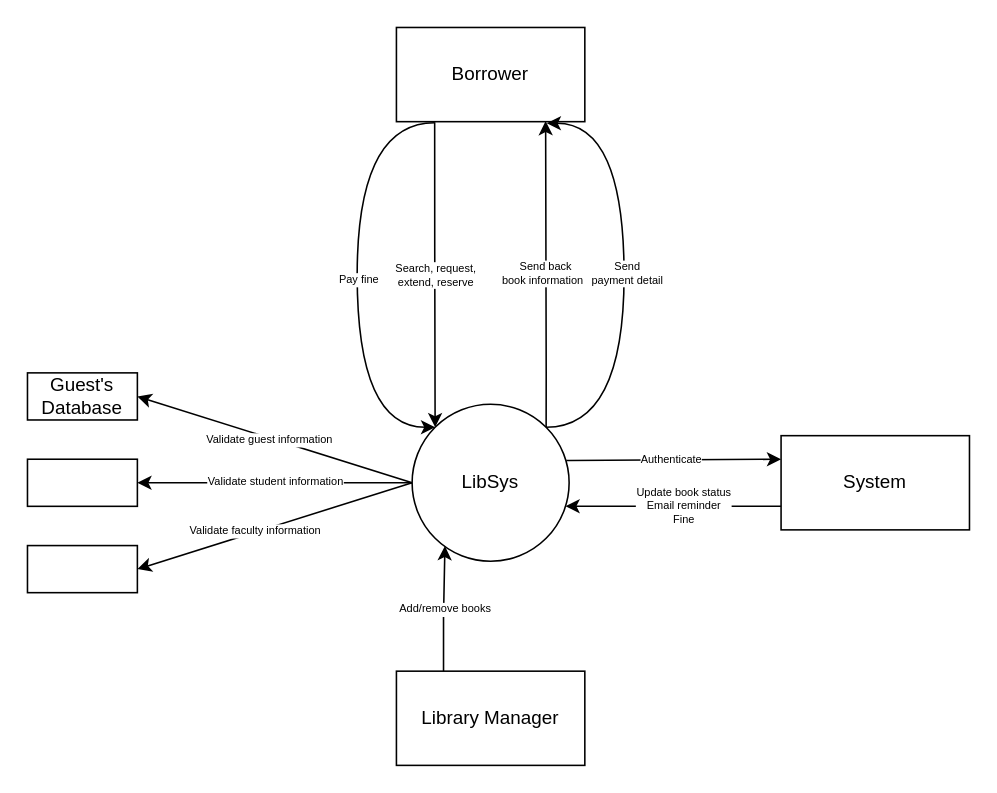
This 997x793 diagram has some shape labels left out. The shapes that lost their labels are listed below. From the top down, each one's centre as x and y in pixels, then its label:
At point 81,482: "Student's Database".
At point 81,568: "Faculty's Database".
